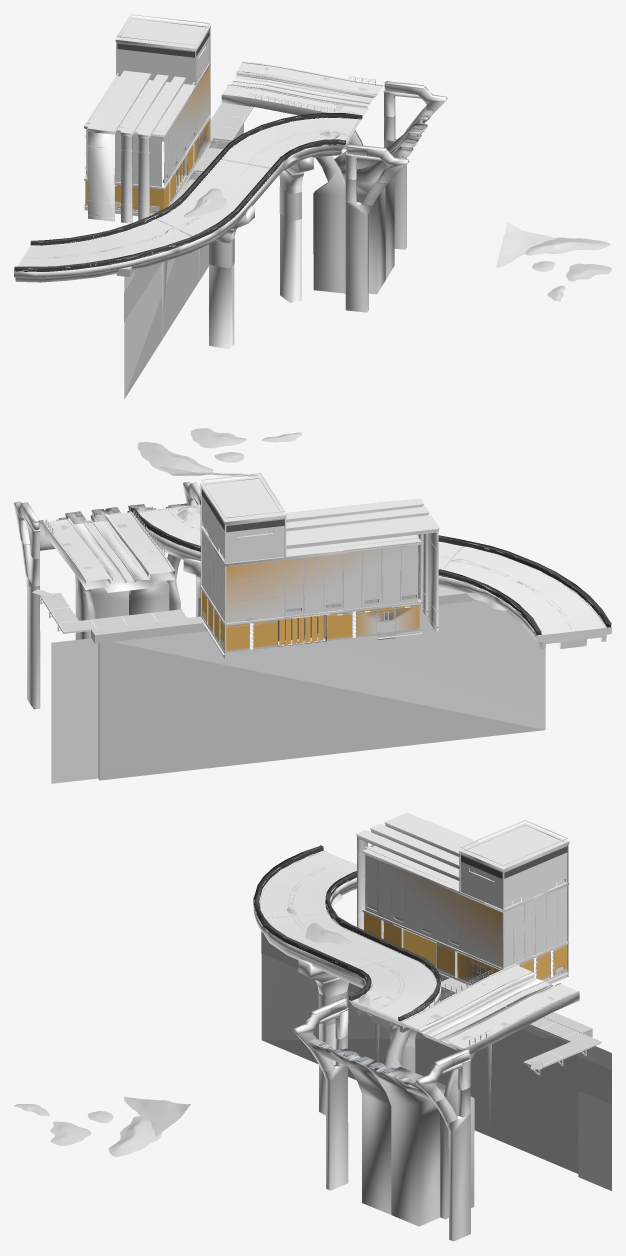
The model's file is cell_85_55.fbx.
3 views of the same model, one above another, from view 1: azimuth 30°, elevation 25°; view 2: azimuth 150°, elevation 25°; view 3: azimuth 270°, elevation 25° (orthographic). The views are drawn at different scales.
Visible parts, largest first — view 1: SM_I_RoadFacility_Ground_L_06A.mo, SM_H_Building_FutureTech_Aerospace_01.mo, SM_I_RoadFacility_Ground_A_10Cc.mo, SM_I_RoadFacility_Ground_R_02Cb.mo, SM_I_RoadFacility_Ground_T_16.mo, SM_I_RoadFacility_Ground_L_06A_Decal.mo, SM_I_RoadFacility_Ground_T_01C.mo, SM_I_Terrain_Road_Desert_Decal_Sand_06.mo.085, SM_I_RoadFacility_Ground_R_02Cb_Decal.mo, SM_I_Terrain_Road_Desert_Decal_Sand_09.mo.043, SM_I_RoadFacility_Ground_T_16_Decal.mo, SM_H_Building_FutureTech_Aerospace_01_Decal.mo (+2 smaller); view 2: SM_I_RoadFacility_Ground_R_02Cb.mo, SM_H_Building_FutureTech_Aerospace_01.mo, SM_I_RoadFacility_Ground_L_06A.mo, SM_I_RoadFacility_Ground_A_10Cc.mo, SM_I_RoadFacility_Ground_T_16.mo, SM_H_Building_FutureTech_Aerospace_01_Decal.mo, SM_I_RoadFacility_Ground_T_01C.mo, SM_I_Terrain_Road_Desert_Decal_Sand_09.mo.043, SM_I_Terrain_Road_Desert_Decal_Sand_09.mo.047, SM_I_RoadFacility_Ground_T_16_Decal.mo; view 3: SM_H_Building_FutureTech_Aerospace_01.mo, SM_I_RoadFacility_Ground_A_10Cc.mo, SM_I_RoadFacility_Ground_R_02Cb.mo, SM_I_RoadFacility_Ground_L_06A.mo, SM_I_RoadFacility_Ground_T_16.mo, SM_I_RoadFacility_Ground_R_02Cb_Decal.mo, SM_H_Building_FutureTech_Aerospace_01_Decal.mo, SM_I_RoadFacility_Ground_T_01C.mo, SM_I_Terrain_Road_Desert_Decal_Sand_06.mo.085, SM_I_Terrain_Road_Desert_Decal_Sand_09.mo.043, SM_I_RoadFacility_Ground_L_06A_Decal.mo, SM_I_RoadFacility_Ground_T_16_Decal.mo (+2 smaller).
Part boxes in pixels (<box>): SM_I_RoadFacility_Ground_L_06A.mo: <box>14,113,362,349</box>; SM_H_Building_FutureTech_Aerospace_01.mo: <box>83,14,210,223</box>; SM_I_RoadFacility_Ground_A_10Cc.mo: <box>313,81,447,312</box>; SM_I_RoadFacility_Ground_R_02Cb.mo: <box>116,103,237,398</box>; SM_I_RoadFacility_Ground_T_16.mo: <box>221,61,383,118</box>; SM_I_RoadFacility_Ground_L_06A_Decal.mo: <box>23,115,350,277</box>; SM_I_RoadFacility_Ground_T_01C.mo: <box>172,104,253,203</box>; SM_I_Terrain_Road_Desert_Decal_Sand_06.mo.085: <box>496,222,556,267</box>; SM_I_RoadFacility_Ground_R_02Cb_Decal.mo: <box>124,123,243,322</box>; SM_I_Terrain_Road_Desert_Decal_Sand_09.mo.043: <box>525,237,610,255</box>; SM_I_RoadFacility_Ground_T_16_Decal.mo: <box>222,63,382,117</box>; SM_H_Building_FutureTech_Aerospace_01_Decal.mo: <box>84,72,210,208</box>; SM_I_RoadFacility_Ground_R_02Cb.mo: <box>51,588,545,783</box>; SM_H_Building_FutureTech_Aerospace_01.mo: <box>200,473,439,659</box>; SM_I_RoadFacility_Ground_L_06A.mo: <box>131,500,611,649</box>; SM_I_RoadFacility_Ground_A_10Cc.mo: <box>14,481,200,709</box>; SM_I_RoadFacility_Ground_T_16.mo: <box>42,511,174,592</box>; SM_H_Building_FutureTech_Aerospace_01_Decal.mo: <box>200,528,420,653</box>; SM_I_RoadFacility_Ground_T_01C.mo: <box>32,587,445,633</box>; SM_I_Terrain_Road_Desert_Decal_Sand_09.mo.043: <box>137,442,213,472</box>; SM_I_Terrain_Road_Desert_Decal_Sand_09.mo.047: <box>190,428,246,448</box>; SM_I_RoadFacility_Ground_T_16_Decal.mo: <box>46,512,172,581</box>; SM_H_Building_FutureTech_Aerospace_01.mo: <box>355,812,569,985</box>; SM_I_RoadFacility_Ground_A_10Cc.mo: <box>293,998,475,1241</box>; SM_I_RoadFacility_Ground_R_02Cb.mo: <box>253,897,611,1190</box>; SM_I_RoadFacility_Ground_L_06A.mo: <box>254,845,441,1115</box>; SM_I_RoadFacility_Ground_T_16.mo: <box>400,964,579,1054</box>; SM_I_RoadFacility_Ground_R_02Cb_Decal.mo: <box>261,931,611,1104</box>; SM_H_Building_FutureTech_Aerospace_01_Decal.mo: <box>357,838,568,984</box>; SM_I_RoadFacility_Ground_T_01C.mo: <box>441,978,601,1075</box>; SM_I_Terrain_Road_Desert_Decal_Sand_06.mo.085: <box>124,1096,190,1136</box>; SM_I_Terrain_Road_Desert_Decal_Sand_09.mo.043: <box>108,1116,161,1156</box>; SM_I_RoadFacility_Ground_L_06A_Decal.mo: <box>253,847,441,1072</box>; SM_I_RoadFacility_Ground_T_16_Decal.mo: <box>401,965,577,1047</box>.
Size of the model in its own units: 109 by 51.62 by 99.61.
